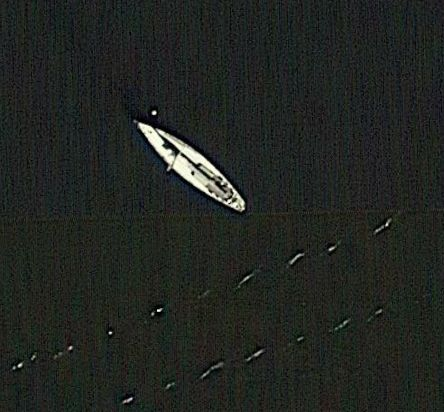boat: (131, 119, 250, 217)
